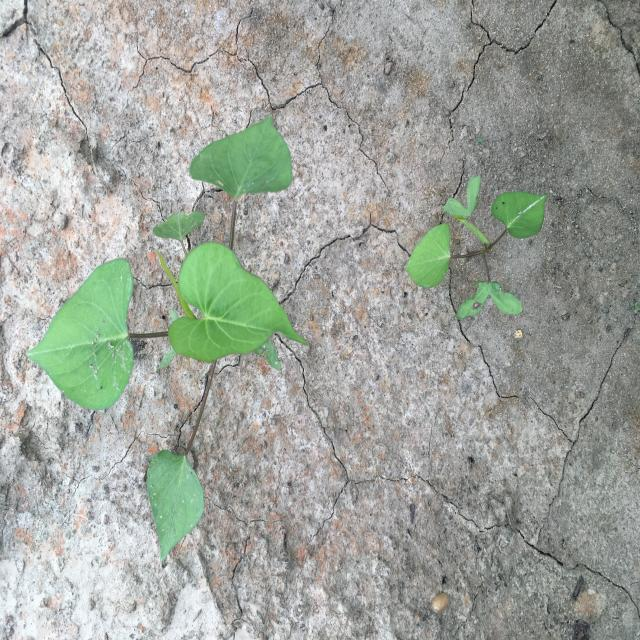MorningGlory: (25, 117, 308, 561), (404, 174, 548, 321)
